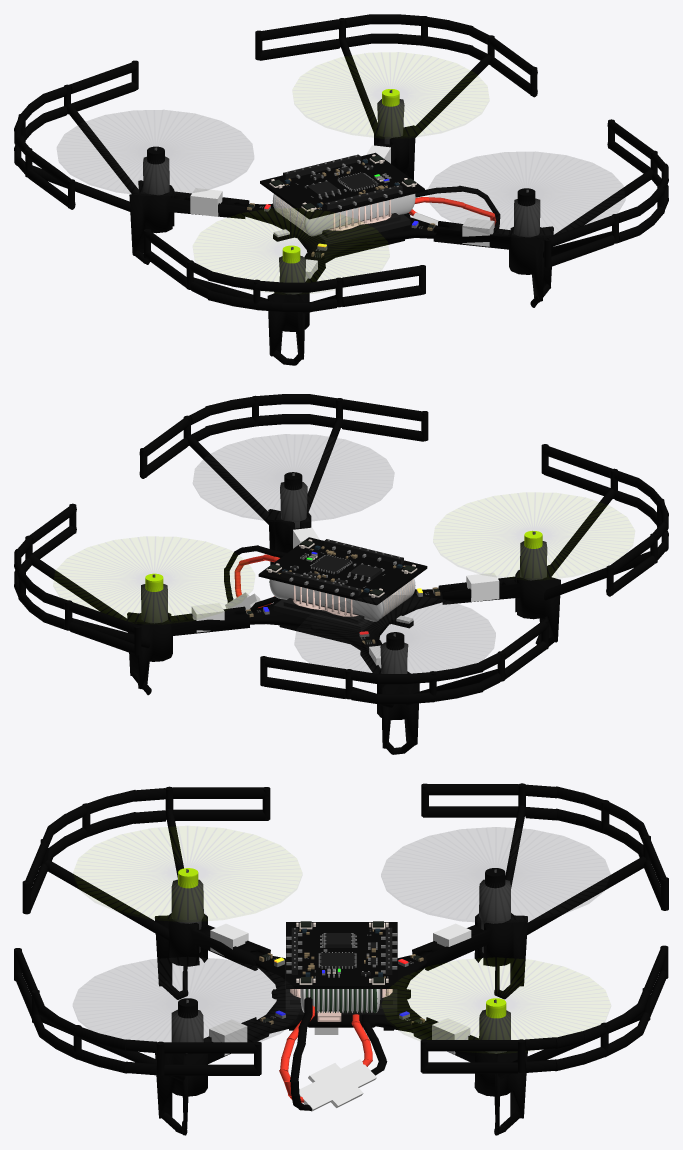
File: FINAL_DRONE_1.1.glb
The picture shows the model from 3 angles, top to bottom: view 1: azimuth 30°, elevation 25°; view 2: azimuth 150°, elevation 25°; view 3: azimuth 270°, elevation 25°; orthographic projection. The views are drawn at different scales.
Parts seen in each view (by area): view 1: Rotor 4, Rotor 1, 7mm motor mount Default sldprt_0, Cylinder (3) (×8), Cube (×2), 7x15 motor Default sldprt_1, drone body, Cylinder (1) (×3), Cylinder (×2), Cube (162), Cube (3), header Default sldprt_4 (+2 smaller); view 2: Rotor 1, Rotor 4, 7mm motor mount Default sldprt_0, Cylinder (3) (×8), Cube, 7x15 motor Default sldprt_1, drone body, Cylinder (1) (×3), Cylinder (×3), Cube (2), Cube (162), header Default sldprt_4 (+4 smaller); view 3: Rotor 4, Rotor 1, 7mm motor mount Default sldprt_0, Cylinder (2) (×8), Cube (×3), 7x15 motor Default sldprt_1, Cylinder (×4), drone body, Cube (1) (×2), Cube (2) (×2), Cylinder (1) (×2), Cube (3) (+1 smaller).
Boxes of the visible parts, box(x1,y1,x2,y2) form: Rotor 4: box(57, 110, 253, 195); Rotor 1: box(428, 152, 624, 237); 7mm motor mount Default sldprt_0: box(129, 125, 553, 359); Cylinder (3) (×8): box(69, 19, 614, 306); Cube (×2): box(190, 152, 424, 219); 7x15 motor Default sldprt_1: box(143, 90, 540, 294); drone body: box(187, 198, 498, 263); Cylinder (1) (×3): box(31, 54, 653, 236); Cylinder (×2): box(66, 37, 377, 193); Cube (162): box(313, 214, 410, 245); Cube (3): box(462, 218, 494, 246); header Default sldprt_4: box(327, 199, 391, 230); Rotor 1: box(193, 434, 393, 521); Rotor 4: box(295, 595, 495, 673); 7mm motor mount Default sldprt_0: box(127, 509, 560, 748); Cylinder (3) (×8): box(69, 399, 612, 698); Cube: box(258, 537, 427, 605); 7x15 motor Default sldprt_1: box(141, 472, 547, 673); drone body: box(184, 583, 501, 668); Cylinder (1) (×3): box(29, 434, 650, 623); Cylinder (×3): box(72, 418, 614, 648); Cube (2): box(466, 572, 499, 601); Cube (162): box(273, 599, 374, 631); header Default sldprt_4: box(293, 585, 358, 616); Rotor 4: box(381, 827, 610, 922); Rotor 1: box(73, 957, 301, 1041); 7mm motor mount Default sldprt_0: box(154, 913, 527, 1128); Cylinder (2) (×8): box(164, 784, 518, 1075); Cube (×3): box(286, 922, 471, 988); 7x15 motor Default sldprt_1: box(171, 869, 510, 1053); Cylinder (×4): box(38, 856, 646, 1076); drone body: box(211, 951, 431, 1042); Cube (1) (×2): box(299, 1018, 470, 1111); Cube (2) (×2): box(210, 923, 363, 1107); Cylinder (1) (×2): box(165, 805, 525, 888); Cube (3): box(209, 1019, 247, 1055).
Size of the model in its own units: 16.96 by 4.59 by 17.95.
23 materials, 2 textured.
